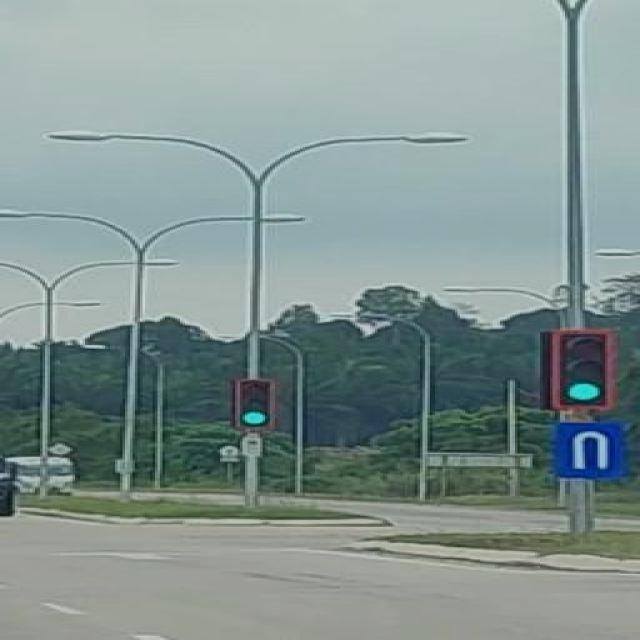Green: (550, 327, 610, 407), (232, 378, 276, 432)
